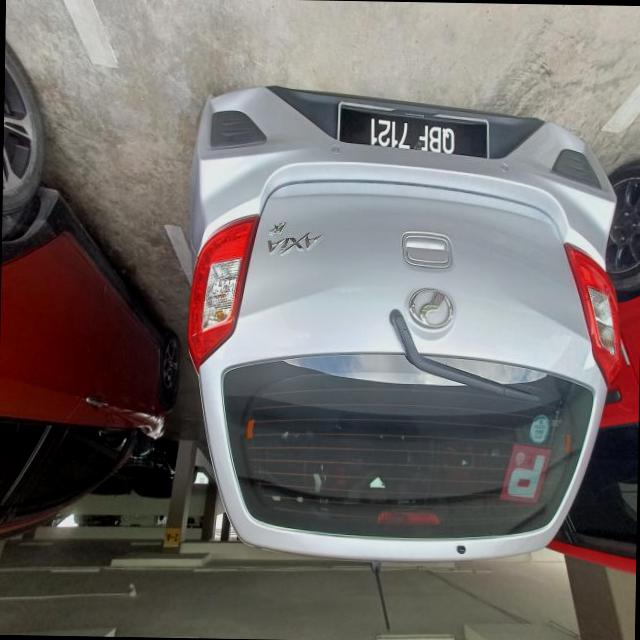PeroduaAxia: (180, 82, 627, 568)
